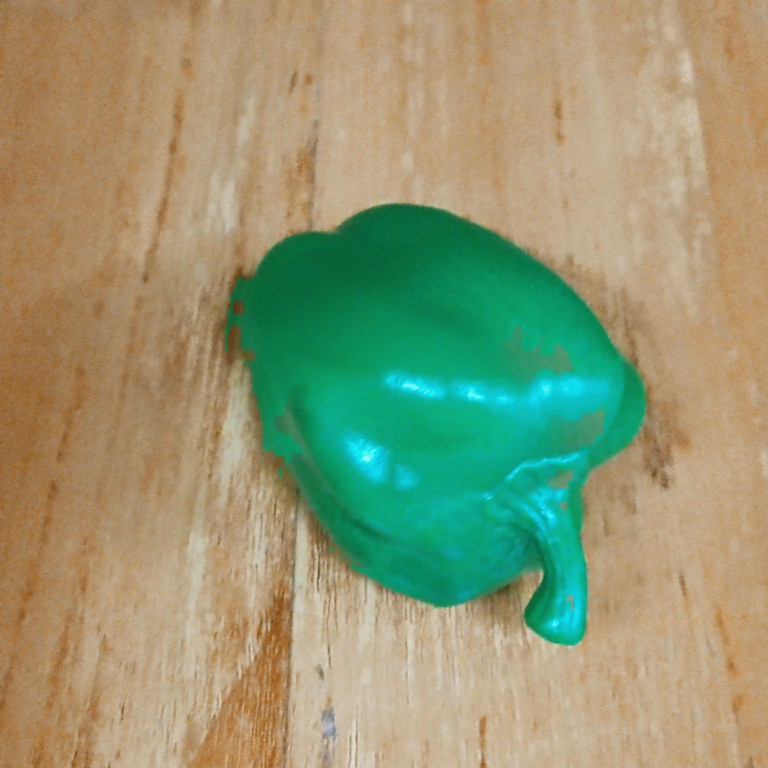fruit_pepper: (211, 199, 652, 655)
